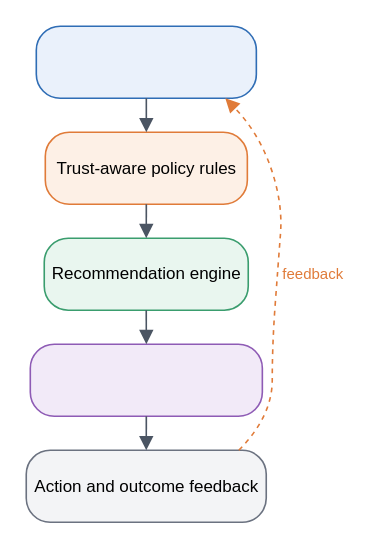
Image size: 371x549. Some labels were removed from this diagram. Here are the shapes that lost their labels. From the top down, the centre of each, then its label:
At [145,61]: "Predictions + explanations + trust score".
At [145,379]: "Decision-support dashboard".
